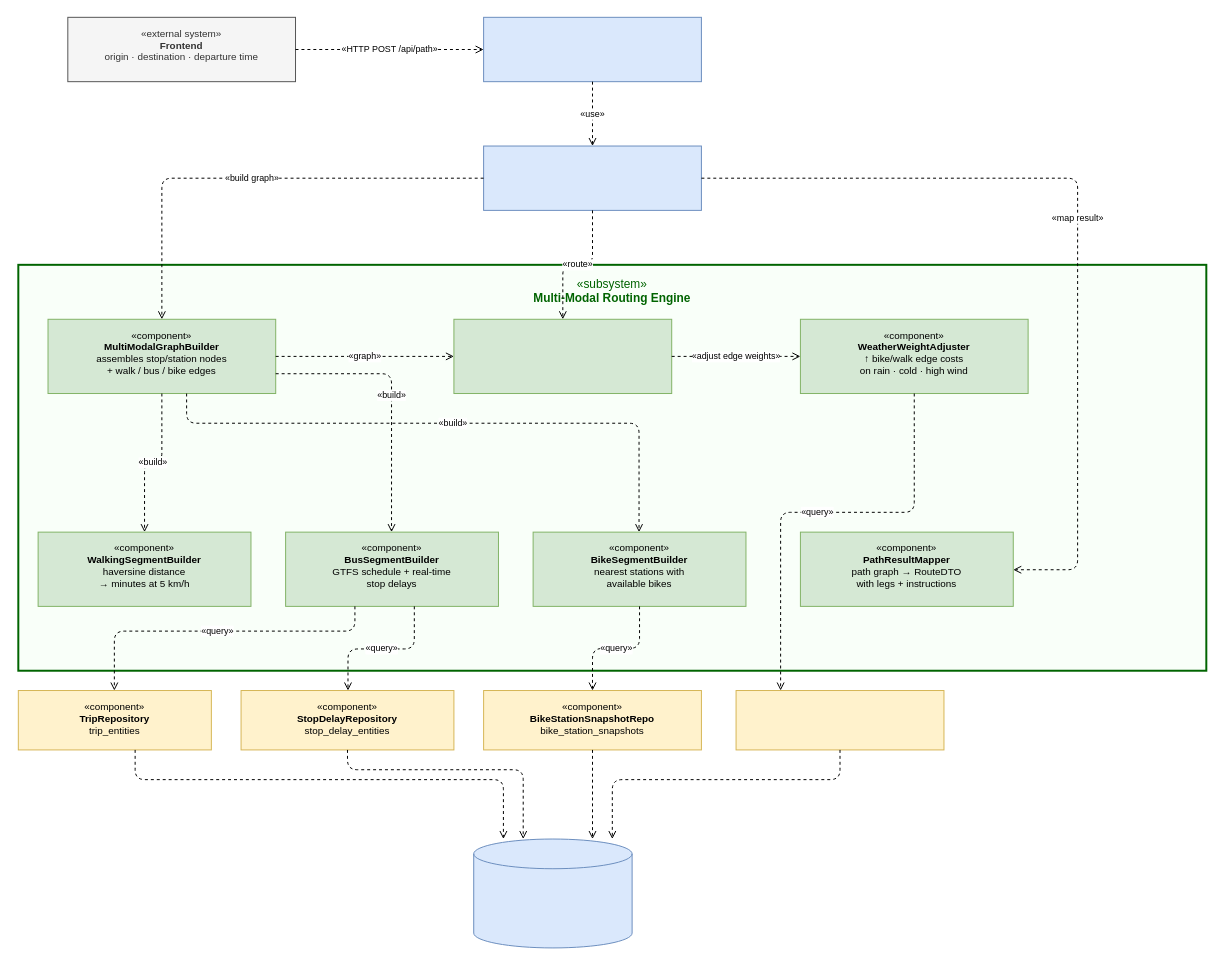
The diagram is 1224 pixels wide and 965 high, and some of its shapes have lost their labels. Here are the shapes that lost their labels. From the top down, the box of each, then its label:
(483, 16, 701, 82): «component» PathController POST /api/path
(483, 145, 701, 210): «component» PathService orchestrates routing pipeline
(453, 318, 672, 394): «component» DijkstraRouter time-aware shortest path on multi-modal graph
(735, 690, 944, 750): «component» WeatherRepository weather_snapshots
(473, 838, 632, 948): «database» PostgreSQL (Supabase)
